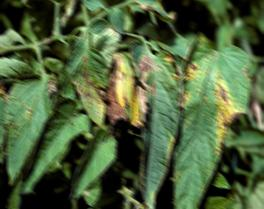Tomato leaf bacterial spot: (173, 34, 251, 205), (134, 45, 182, 207), (3, 73, 56, 191), (68, 32, 106, 134)
